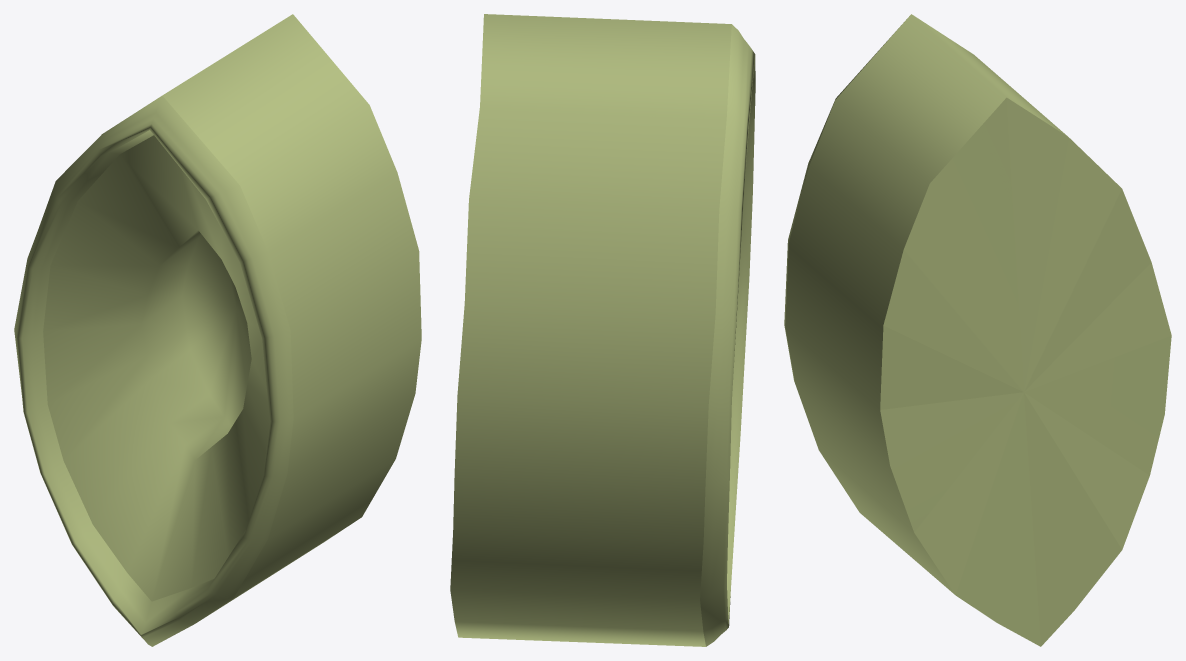
Rendered from BL4_8shapes_Marquise_Classic_Metal.001 2.glb.
3 views of the same model, side by side, from view 1: azimuth 30°, elevation 25°; view 2: azimuth 150°, elevation 25°; view 3: azimuth 270°, elevation 25° (orthographic). The views are drawn at different scales.
Parts seen in each view (by area): view 1: BL4_8shapes_Marquise_Classic_Metal.001; view 2: BL4_8shapes_Marquise_Classic_Metal.001; view 3: BL4_8shapes_Marquise_Classic_Metal.001.
Part boxes in pixels (left/top/right/bottom): BL4_8shapes_Marquise_Classic_Metal.001: left=14, top=14, right=421, bottom=646; BL4_8shapes_Marquise_Classic_Metal.001: left=450, top=14, right=755, bottom=646; BL4_8shapes_Marquise_Classic_Metal.001: left=784, top=14, right=1171, bottom=646.
Bounding box in the file's own units: 0.4017 × 0.6897 × 0.4417.
